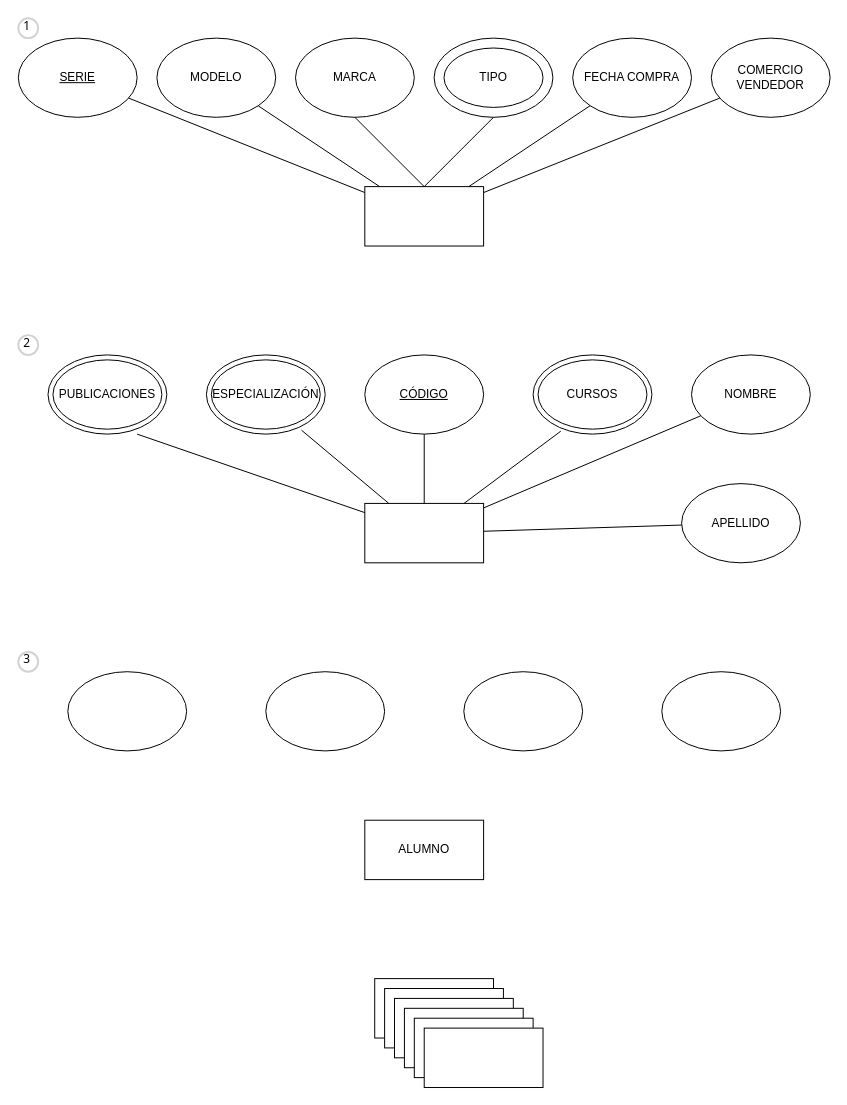
This 847x1105 diagram has some shape labels left out. Here are the shapes that lost their labels. From the top down, the centre of each, then its label:
the point at 424,216: APARATO
the point at 424,532: PROFESOR
